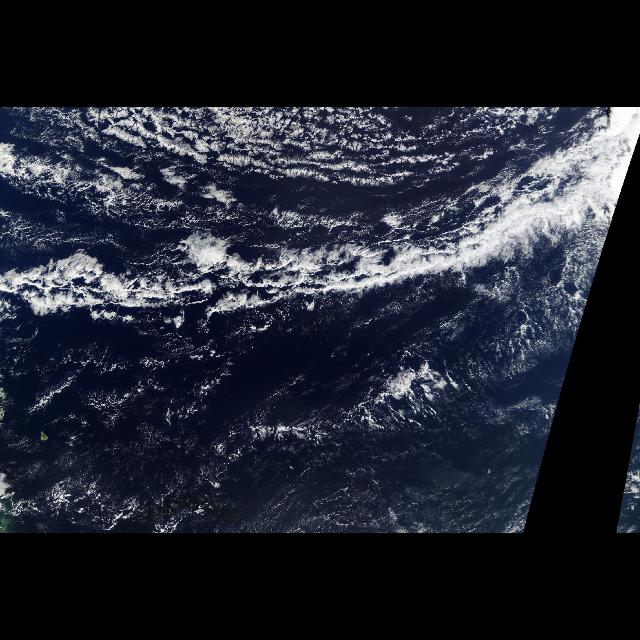Fish: (1, 158, 612, 332)
Sugar: (0, 395, 540, 533), (108, 114, 446, 210)
